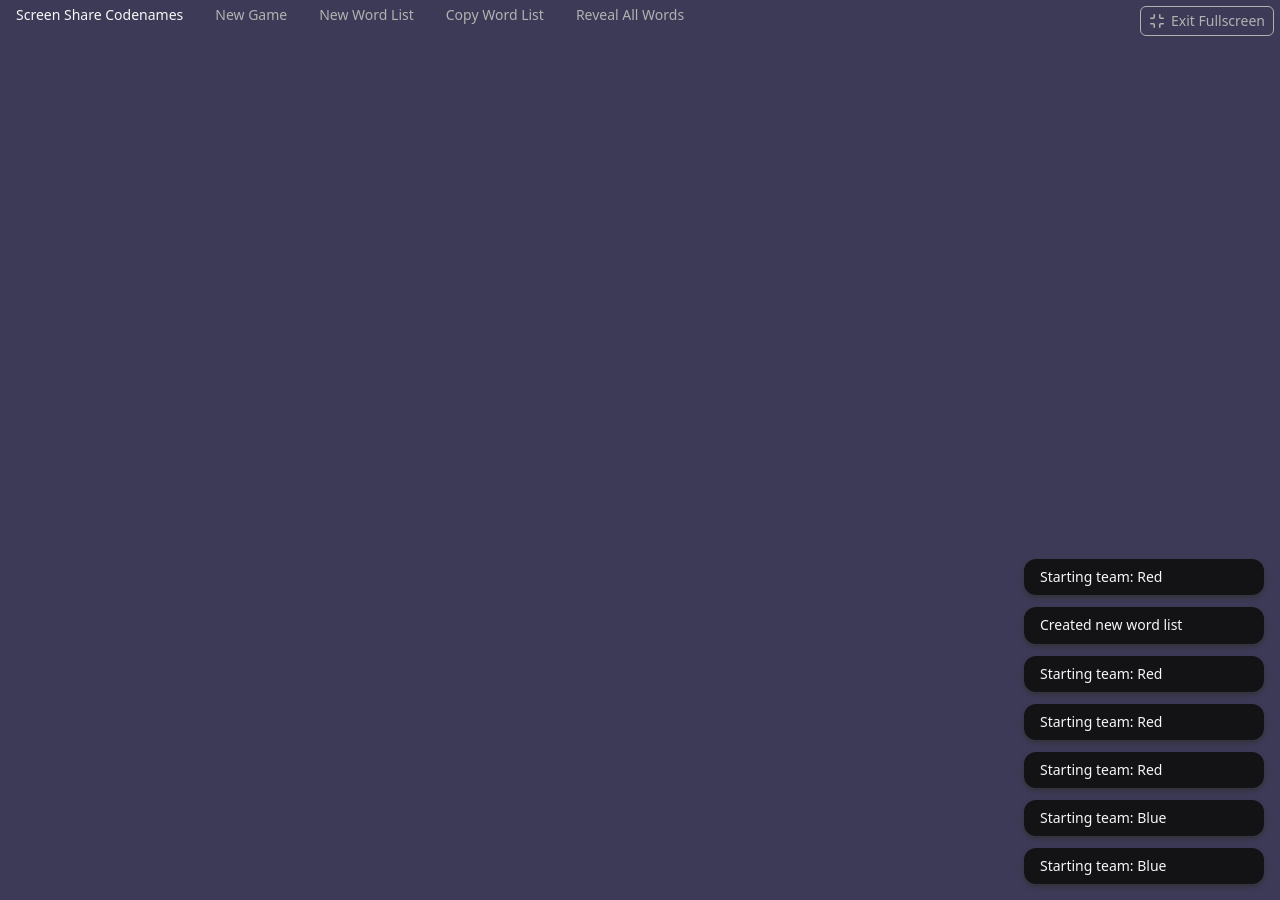
Test: clicking reveal all words shows reveal all words dialog
What coordinates should you click on to do the following:
click the button "Reveal All Words"
I would click on:
 (630, 15)
Its box is [560,0,700,30].
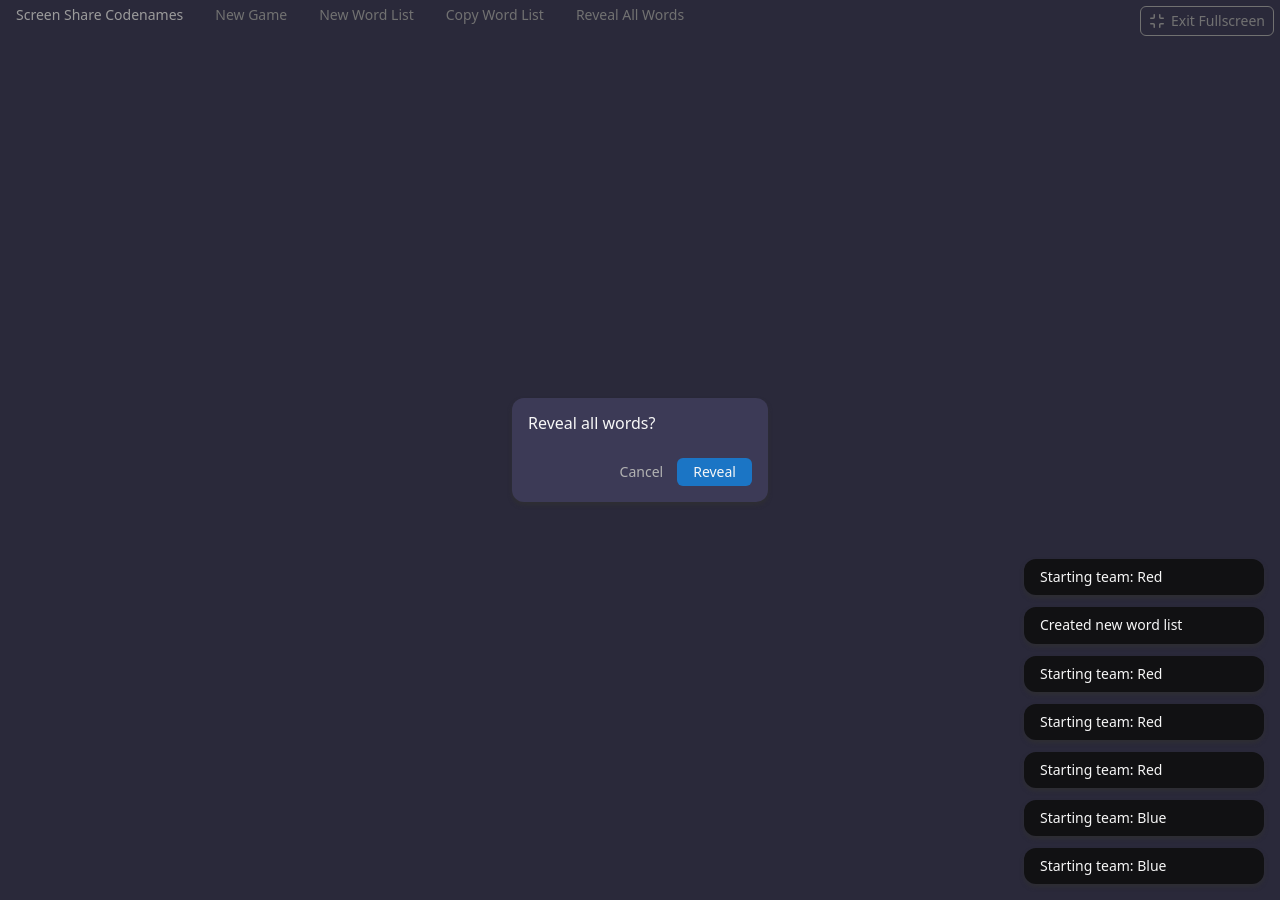
Result: the dialog shows "Reveal all words?" at [528,412,656,434]
